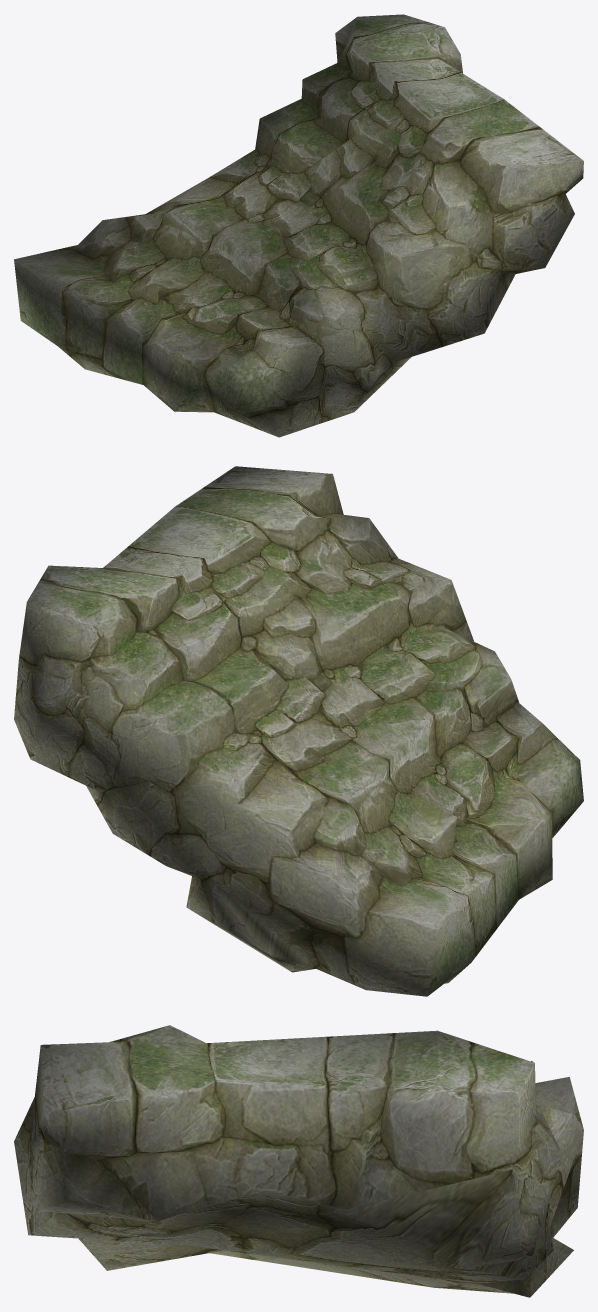
File: GongYong_LouTi_1.fbx
The picture shows the model from 3 angles, top to bottom: view 1: azimuth 30°, elevation 25°; view 2: azimuth 150°, elevation 25°; view 3: azimuth 270°, elevation 25°; orthographic projection. The views are drawn at different scales.
Parts seen in each view (by area): view 1: GongYong_LouTi_1; view 2: GongYong_LouTi_1; view 3: GongYong_LouTi_1.
Boxes of the visible parts, x1,y1,x2,y2 form: GongYong_LouTi_1: (14, 14, 583, 437); GongYong_LouTi_1: (14, 466, 583, 996); GongYong_LouTi_1: (14, 1025, 583, 1297).
Size of the model in its own units: 269 by 179 by 260.
